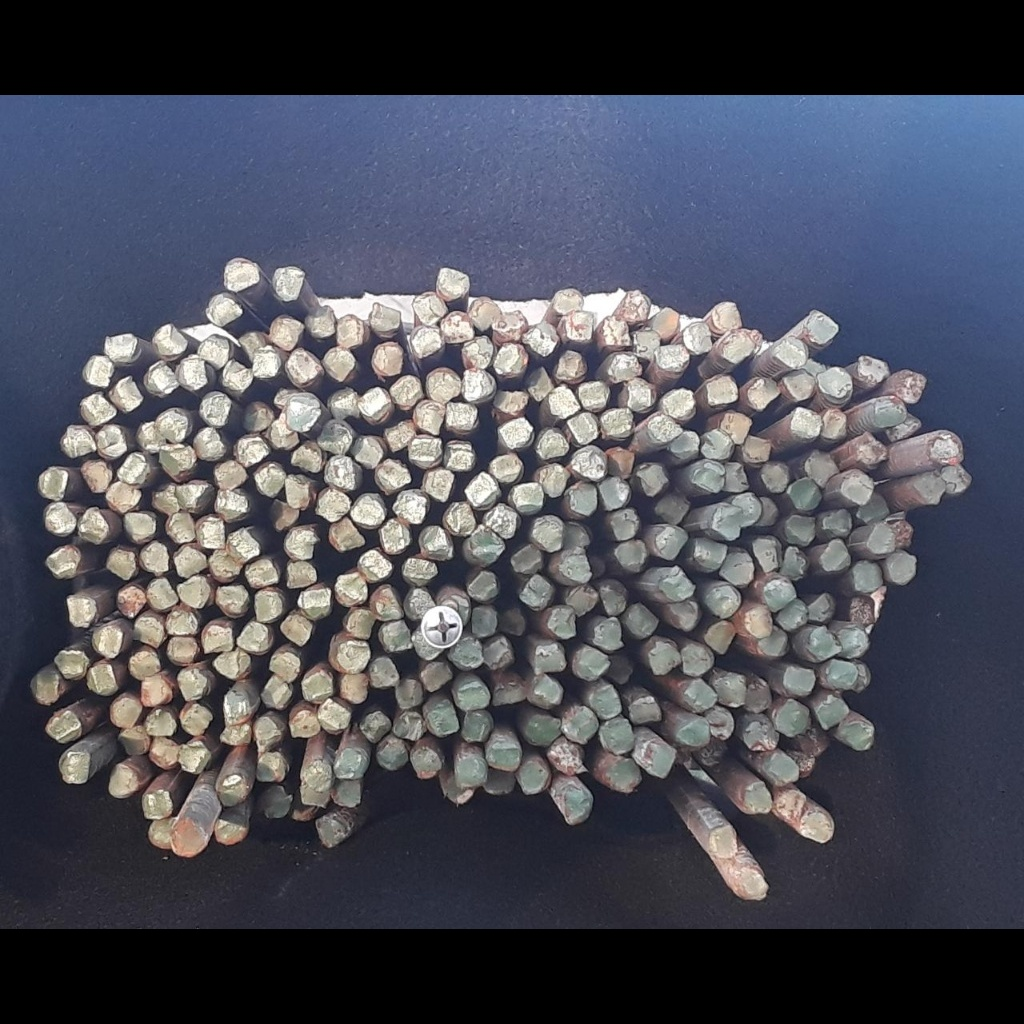dipstick: (548, 736, 586, 775), (171, 818, 208, 858), (469, 527, 506, 564), (288, 392, 322, 432), (442, 500, 478, 537), (464, 471, 500, 508), (527, 674, 564, 710), (562, 706, 598, 743), (152, 323, 188, 359), (572, 647, 609, 682), (807, 625, 842, 662), (158, 407, 193, 443), (523, 320, 558, 356), (521, 714, 561, 745), (322, 346, 357, 381), (172, 543, 207, 578), (393, 490, 428, 525), (199, 391, 233, 427), (46, 710, 82, 744), (255, 786, 291, 820), (283, 527, 319, 561), (420, 525, 454, 561), (601, 719, 635, 755), (776, 700, 810, 736), (626, 602, 659, 639), (562, 787, 594, 825), (223, 257, 258, 291), (286, 349, 321, 383), (319, 420, 354, 454), (329, 518, 364, 552), (426, 367, 460, 402), (519, 575, 553, 610), (269, 314, 302, 350), (237, 622, 273, 655), (571, 447, 607, 480), (644, 742, 677, 778), (773, 337, 809, 370), (806, 450, 839, 486), (485, 505, 522, 537), (461, 368, 495, 402), (661, 566, 695, 600), (177, 356, 210, 391), (194, 515, 227, 550), (217, 773, 250, 808), (180, 701, 213, 736), (278, 613, 313, 646), (319, 698, 352, 733), (337, 639, 370, 674), (518, 760, 551, 795), (655, 490, 690, 523), (712, 672, 745, 707), (800, 811, 835, 844), (835, 626, 870, 659), (747, 377, 780, 412), (930, 430, 963, 465), (207, 293, 243, 325), (649, 640, 681, 676), (705, 585, 741, 617), (816, 366, 852, 398), (78, 507, 109, 544), (272, 267, 305, 301), (199, 334, 232, 368), (215, 584, 248, 618), (328, 387, 361, 421), (351, 494, 385, 527), (495, 343, 528, 377), (175, 479, 210, 511), (391, 374, 423, 409), (535, 426, 570, 458), (108, 763, 139, 799), (333, 748, 369, 779), (427, 701, 458, 737), (373, 341, 404, 377), (610, 757, 641, 793), (717, 331, 753, 362), (214, 649, 251, 679), (599, 577, 627, 616), (624, 379, 657, 412), (534, 641, 567, 674), (721, 554, 754, 587), (194, 427, 226, 461), (176, 669, 208, 703), (335, 573, 367, 607), (358, 550, 392, 582), (445, 402, 479, 434), (413, 292, 447, 324), (436, 267, 470, 299), (561, 551, 593, 585), (613, 540, 647, 572), (816, 695, 848, 729), (782, 369, 816, 401), (841, 470, 873, 504), (325, 456, 356, 491), (411, 627, 442, 662), (532, 516, 563, 551), (591, 685, 622, 720), (160, 444, 196, 474), (498, 418, 534, 448), (111, 378, 143, 411), (178, 576, 210, 609), (210, 550, 242, 583), (228, 528, 260, 561), (301, 670, 334, 702), (410, 325, 443, 357), (567, 413, 599, 446), (601, 408, 634, 440), (694, 538, 727, 570), (692, 460, 725, 492), (61, 426, 95, 457), (96, 425, 127, 459), (47, 547, 81, 578), (59, 751, 90, 785), (298, 588, 332, 619), (377, 458, 411, 489), (414, 400, 445, 434), (441, 311, 475, 342), (470, 297, 501, 331), (511, 482, 545, 513), (705, 620, 736, 654), (656, 526, 687, 560), (215, 490, 250, 520), (493, 677, 528, 707), (676, 717, 711, 747), (938, 464, 973, 494), (254, 717, 282, 754), (44, 503, 76, 535), (410, 746, 442, 778), (764, 578, 796, 610), (855, 431, 887, 463), (118, 453, 151, 484), (92, 626, 123, 659), (255, 464, 286, 497), (317, 489, 350, 520), (461, 336, 492, 369), (539, 464, 570, 497), (556, 349, 587, 382), (578, 381, 611, 412), (856, 493, 889, 524), (29, 671, 59, 705), (245, 559, 279, 589), (235, 436, 269, 466), (374, 587, 404, 621), (381, 518, 411, 552), (489, 453, 523, 483), (662, 389, 696, 419), (222, 360, 254, 391), (136, 421, 167, 453), (37, 467, 68, 499), (66, 595, 97, 627), (179, 743, 211, 774), (261, 677, 292, 709), (393, 711, 425, 742), (452, 637, 484, 668), (424, 469, 455, 501), (681, 644, 713, 675), (791, 408, 822, 440), (147, 578, 177, 611), (594, 618, 624, 651), (752, 537, 782, 570), (731, 493, 761, 526), (105, 334, 139, 363), (54, 649, 88, 678), (223, 691, 252, 725), (610, 507, 639, 541), (745, 721, 779, 750), (713, 506, 742, 540), (82, 395, 117, 423), (111, 698, 142, 729), (142, 677, 173, 708), (461, 711, 492, 742), (637, 465, 668, 496), (778, 600, 809, 631), (789, 478, 820, 509), (139, 542, 169, 574), (133, 617, 165, 647), (167, 636, 199, 666), (377, 741, 409, 771), (385, 419, 417, 449), (371, 302, 401, 334), (549, 385, 579, 417), (740, 869, 770, 901), (784, 515, 816, 545), (808, 311, 838, 343), (215, 461, 248, 490), (128, 650, 161, 679), (383, 620, 412, 653), (457, 681, 490, 710), (404, 558, 438, 586), (337, 314, 365, 348), (655, 345, 689, 373), (668, 602, 702, 630), (83, 356, 113, 387), (81, 461, 111, 492), (87, 665, 117, 696), (253, 591, 283, 622), (303, 759, 333, 790), (347, 609, 377, 640), (421, 661, 452, 691), (564, 311, 595, 341), (769, 753, 799, 784), (826, 660, 856, 691), (853, 561, 883, 592), (702, 428, 733, 458), (915, 473, 945, 504), (116, 586, 145, 618), (141, 790, 173, 819), (360, 712, 392, 741), (455, 757, 487, 786), (467, 571, 499, 600), (567, 584, 596, 616), (686, 679, 715, 711), (758, 627, 790, 656), (821, 538, 850, 570), (888, 553, 917, 585), (252, 345, 280, 378), (492, 311, 525, 339), (600, 477, 628, 510), (709, 826, 737, 859), (526, 366, 553, 400), (608, 353, 642, 380), (653, 306, 680, 340), (570, 482, 597, 516), (872, 397, 906, 424), (290, 709, 320, 739), (269, 652, 299, 682), (339, 674, 369, 704), (360, 387, 390, 417), (444, 441, 474, 471), (722, 413, 752, 443), (243, 400, 272, 431), (370, 657, 399, 688), (485, 638, 514, 669), (603, 315, 632, 346), (668, 432, 699, 461), (845, 720, 874, 751), (867, 523, 896, 554), (707, 375, 738, 404), (306, 306, 334, 338), (108, 484, 140, 512), (484, 767, 516, 795), (798, 726, 830, 754), (808, 592, 836, 624), (215, 818, 248, 845), (409, 436, 442, 463), (625, 289, 652, 322), (629, 696, 662, 723), (761, 461, 788, 494), (165, 610, 199, 636), (647, 416, 681, 442), (166, 513, 195, 543), (332, 778, 362, 807), (444, 776, 473, 806), (497, 608, 527, 637), (512, 544, 542, 573), (683, 322, 712, 352), (124, 513, 155, 541), (150, 737, 178, 768), (441, 595, 469, 626), (355, 436, 382, 468), (900, 370, 927, 402), (745, 781, 771, 814), (783, 546, 808, 580), (107, 549, 135, 579), (153, 484, 181, 514), (203, 625, 233, 653), (714, 300, 742, 330), (822, 509, 852, 537), (147, 819, 174, 850), (118, 728, 149, 755), (146, 710, 177, 737), (396, 679, 423, 710), (783, 667, 814, 694), (285, 562, 317, 588), (495, 389, 528, 414), (708, 708, 733, 741), (286, 476, 310, 510), (632, 330, 661, 358), (604, 656, 633, 684), (846, 597, 875, 625), (858, 353, 886, 382), (743, 435, 771, 464), (292, 445, 322, 472), (549, 608, 576, 638), (608, 448, 634, 479), (258, 754, 286, 782), (270, 421, 298, 449), (270, 500, 299, 527), (745, 607, 772, 636), (823, 409, 848, 440), (315, 816, 339, 848), (473, 606, 497, 638), (488, 747, 521, 770), (563, 522, 590, 550), (724, 462, 749, 492), (554, 288, 583, 313), (300, 783, 330, 807), (220, 724, 252, 746), (240, 332, 266, 359), (891, 520, 913, 548), (759, 497, 779, 525), (406, 598, 432, 618), (274, 387, 299, 407)
